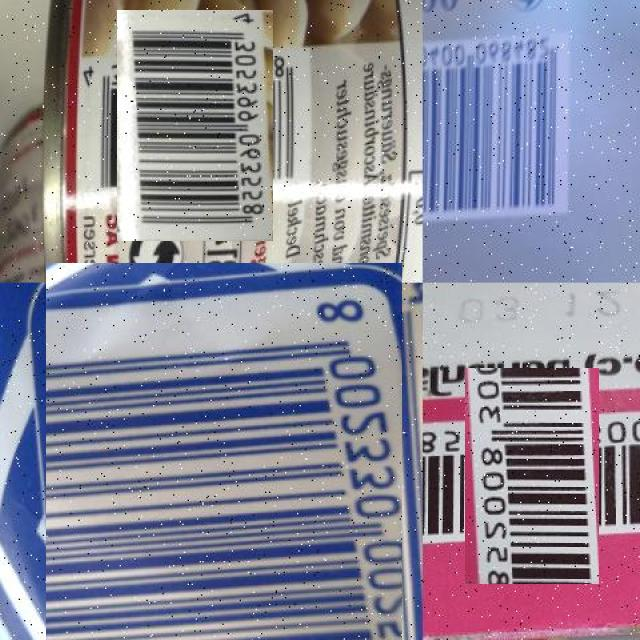Barcode: (36, 273, 413, 640), (99, 28, 292, 223), (444, 388, 619, 564), (423, 30, 572, 222)
